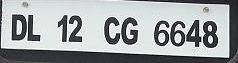1: (55, 13, 67, 42)
2: (67, 14, 82, 42)
4: (185, 18, 201, 47)
6: (152, 18, 169, 46), (169, 19, 185, 47)
8: (201, 19, 218, 47)
C: (101, 15, 120, 45)
D: (9, 12, 27, 39)
G: (120, 16, 139, 45)
L: (26, 13, 40, 41)
